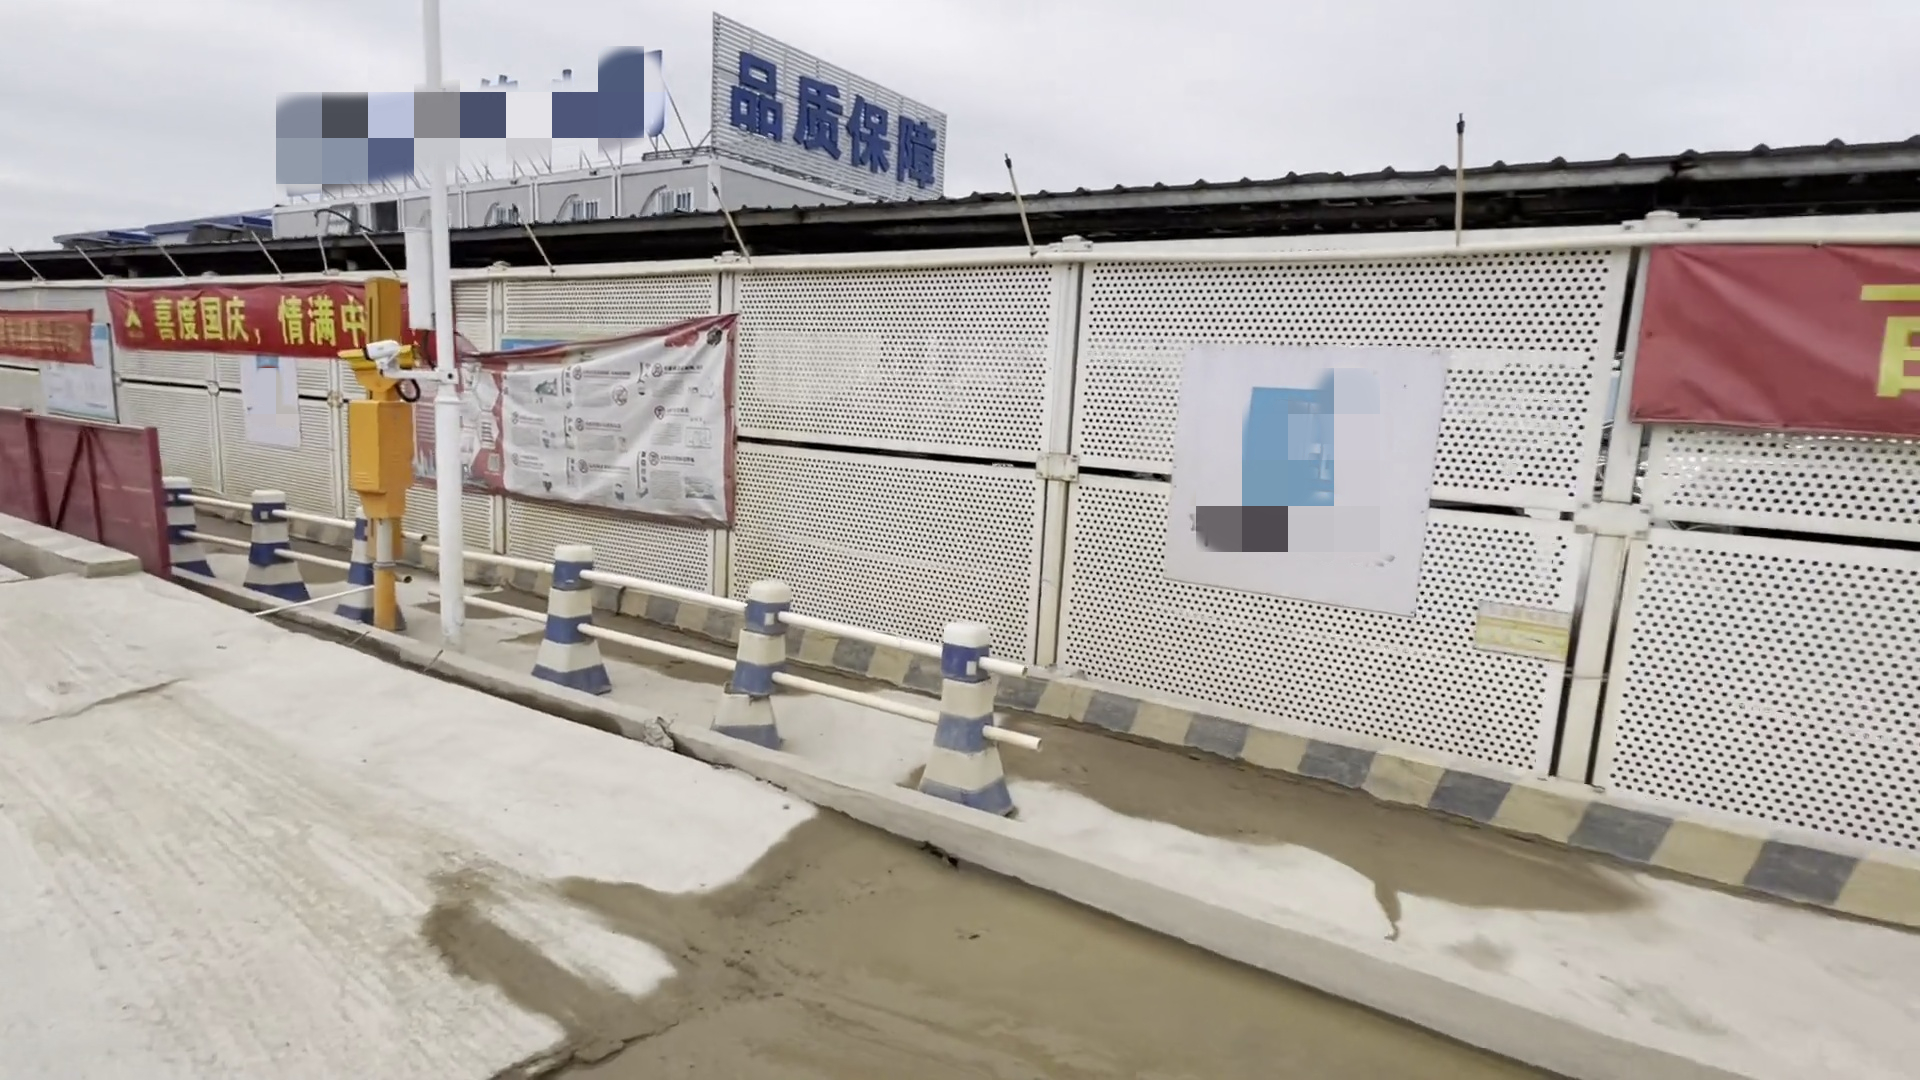fence: (3, 400, 174, 578)
slogan: (723, 57, 952, 189), (119, 289, 367, 364)
